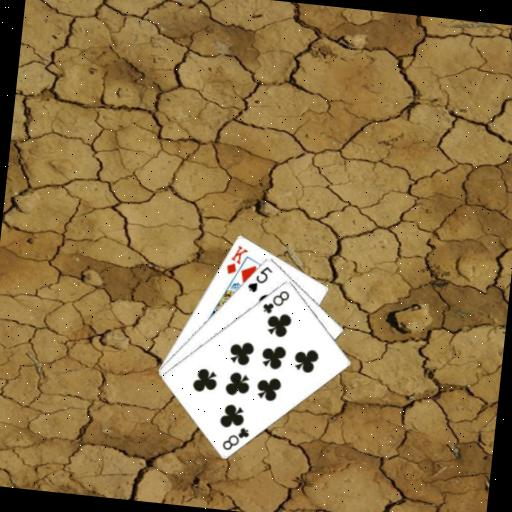5S: (244, 261, 275, 296)
8C: (259, 285, 292, 317), (219, 422, 252, 454)
KD: (223, 241, 250, 277)
